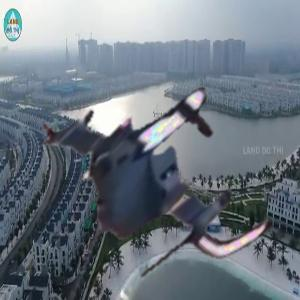drone: (37, 52, 283, 298)
